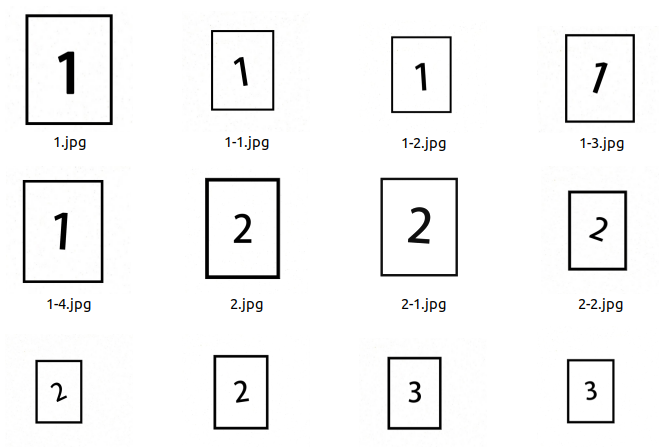one: (41, 34, 94, 103), (39, 199, 85, 264), (580, 46, 620, 109), (225, 46, 261, 98), (407, 53, 437, 101)
three: (578, 373, 605, 408), (401, 375, 415, 393)
two: (397, 189, 443, 260), (220, 200, 264, 261), (583, 205, 614, 252), (44, 368, 73, 412), (227, 372, 258, 413)
